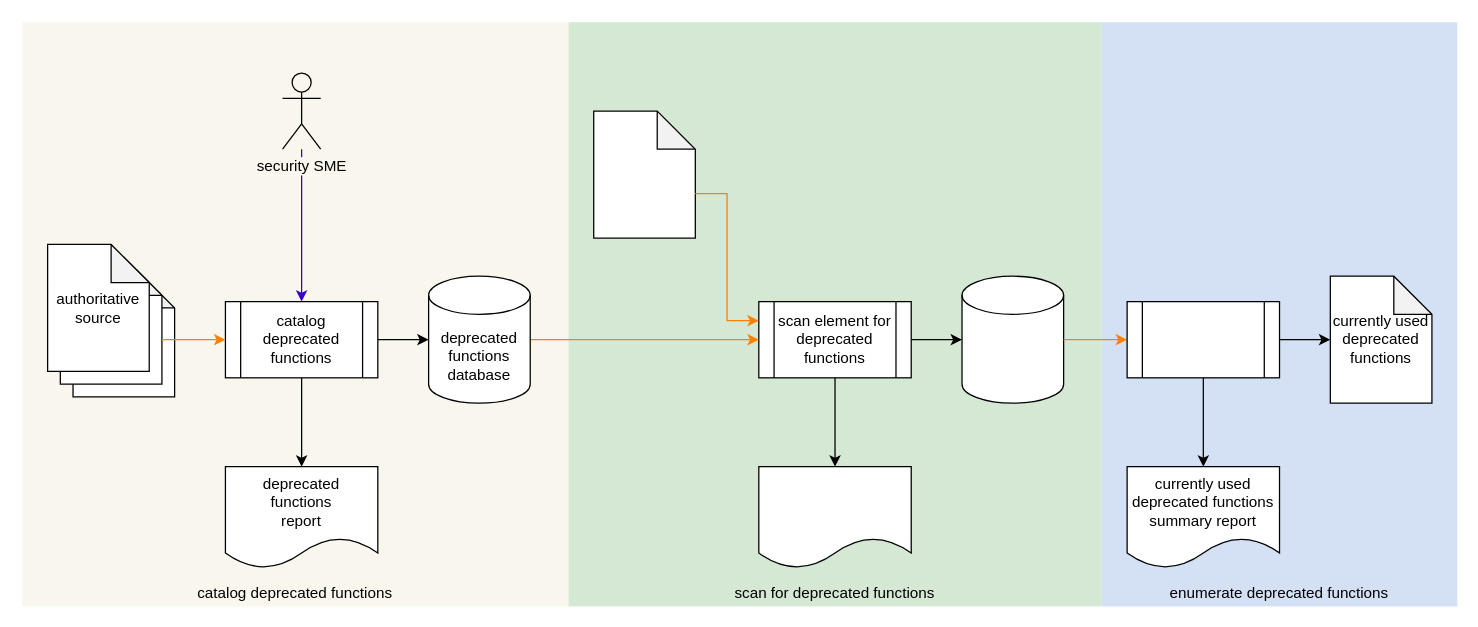
Some shapes in this 1478 by 627 pixel diagram are drawn without their labels. The shapes that lost their labels are listed below. From the top down, each one's centre as x and y in pixels, then its label:
At point (643, 174): "element".
At point (1012, 339): "currently used deprecated functions database".
At point (1203, 339): "enumerate currently used deprecated functions".
At point (834, 516): "element currently used deprecated functions report".
